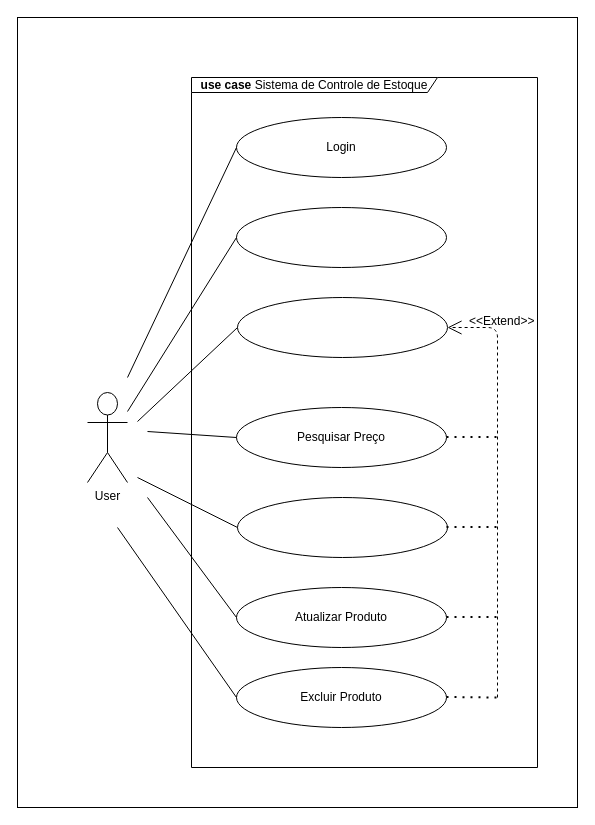
The diagram is 595 pixels wide and 825 high, and some of its shapes have lost their labels. Here are the shapes that lost their labels. From the top down, the centre of each, then its label:
At point 341,237: "Logout".
At point 342,327: "Listar Produtos".
At point 342,527: "Cadastrar Produto".
